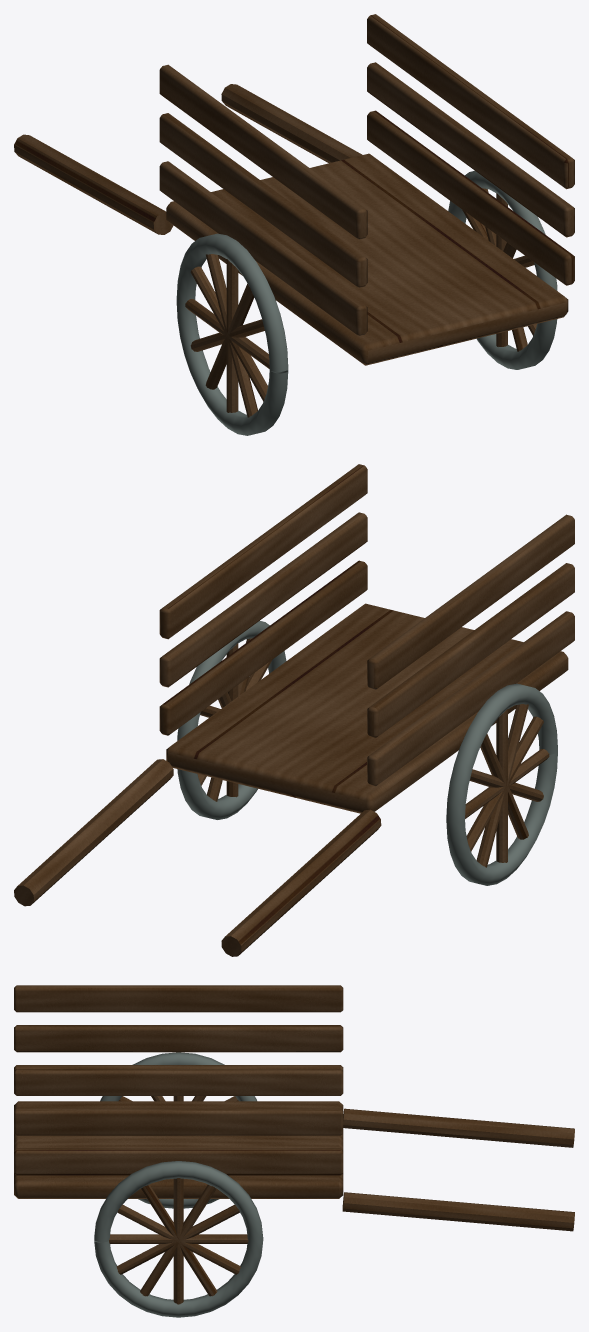
Rendered from prop_cart.glb.
3 views of the same model, one above another, from view 1: azimuth 30°, elevation 25°; view 2: azimuth 150°, elevation 25°; view 3: azimuth 270°, elevation 25° (orthographic). The views are drawn at different scales.
Visible parts, largest first — view 1: cart_bed, wagon_wheel; view 2: cart_bed, wagon_wheel; view 3: cart_bed, wagon_wheel.
Boxes of the visible parts, box(x1,y1,x2,y2) form: cart_bed: box(14, 14, 574, 417); wagon_wheel: box(176, 170, 557, 435); cart_bed: box(14, 464, 574, 956); wagon_wheel: box(177, 621, 557, 885); cart_bed: box(14, 985, 574, 1304); wagon_wheel: box(94, 1052, 263, 1317).
Bounding box in the file's own units: 2.5 × 2.34 × 5.11.
2 materials, 1 textured.
